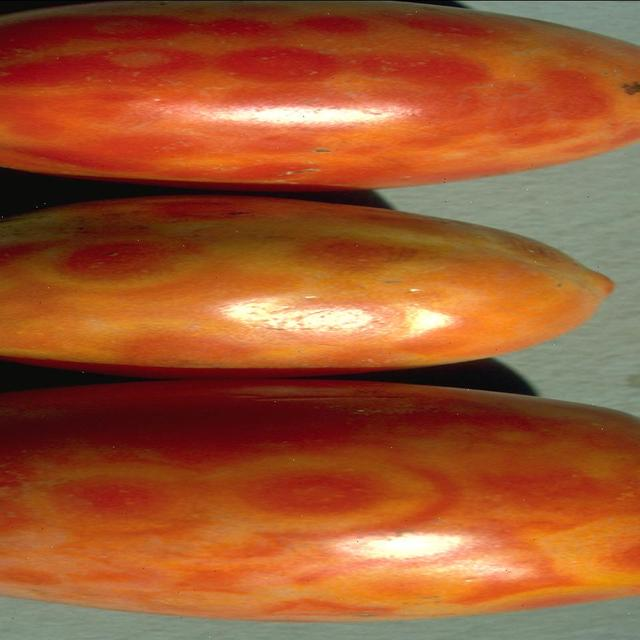Spotted wilt Virus Fruit: (0, 0, 427, 279)
